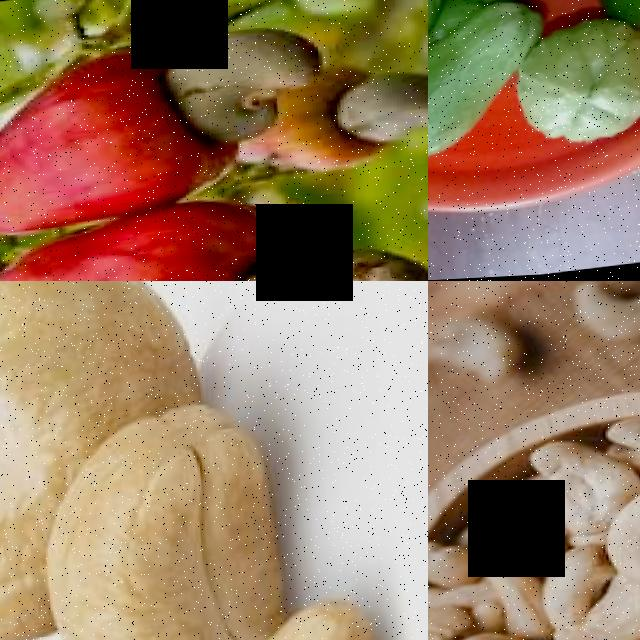cashew: (54, 434, 412, 640), (159, 0, 298, 146), (0, 281, 53, 640), (508, 427, 633, 540), (237, 224, 428, 281), (328, 63, 428, 158), (466, 538, 548, 640), (596, 469, 640, 594), (544, 584, 640, 640), (449, 621, 576, 640)
chayote: (515, 3, 640, 164), (428, 17, 513, 193)
